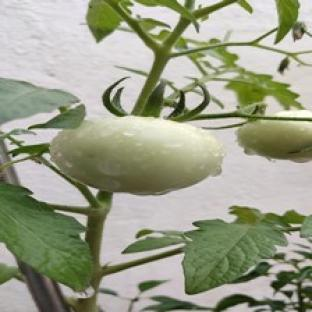Tomato: (51, 116, 224, 194), (237, 120, 311, 161)
